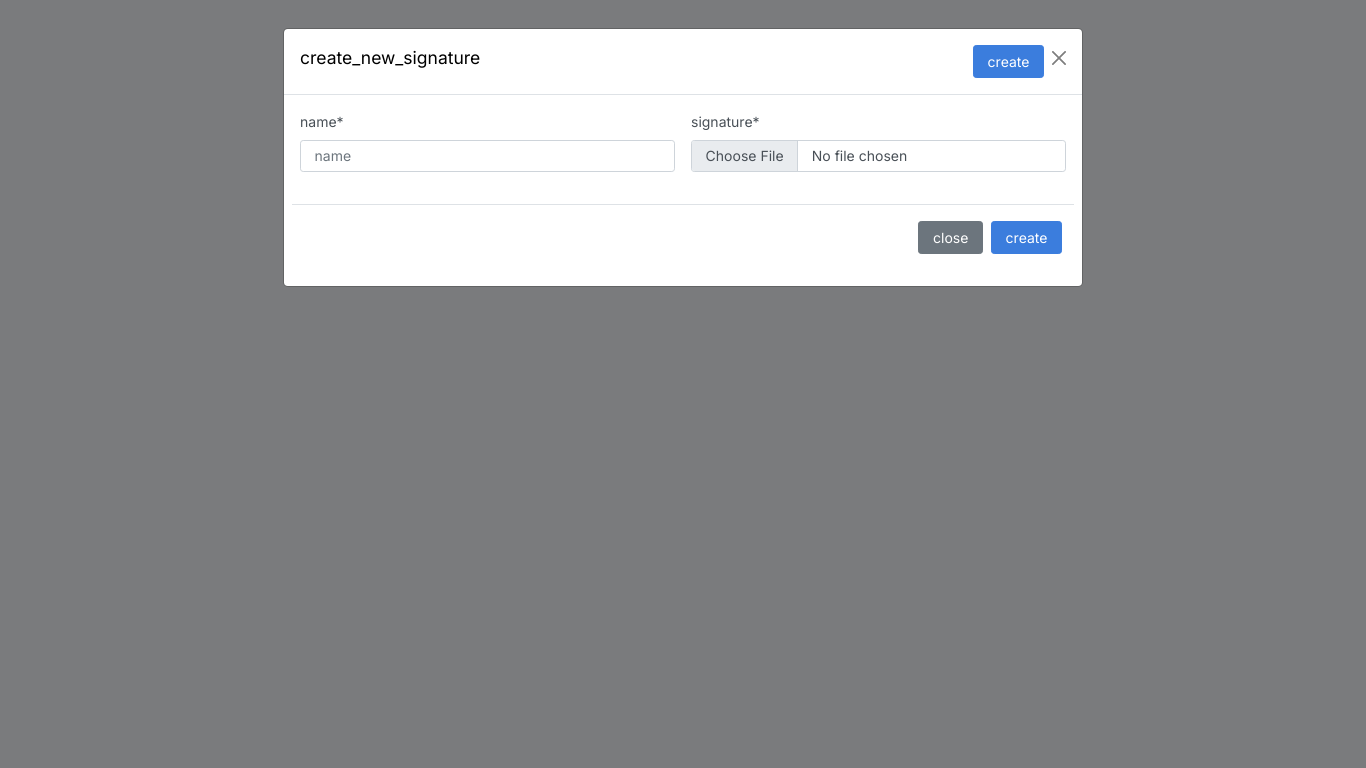
Scenario: SignatureCreate submit › shows the API errors on status:false without crashing
The image size is (1366, 768).
In the field with id "name": (488, 156) top-left (300, 140), bottom-right (675, 172), type "Sig A"
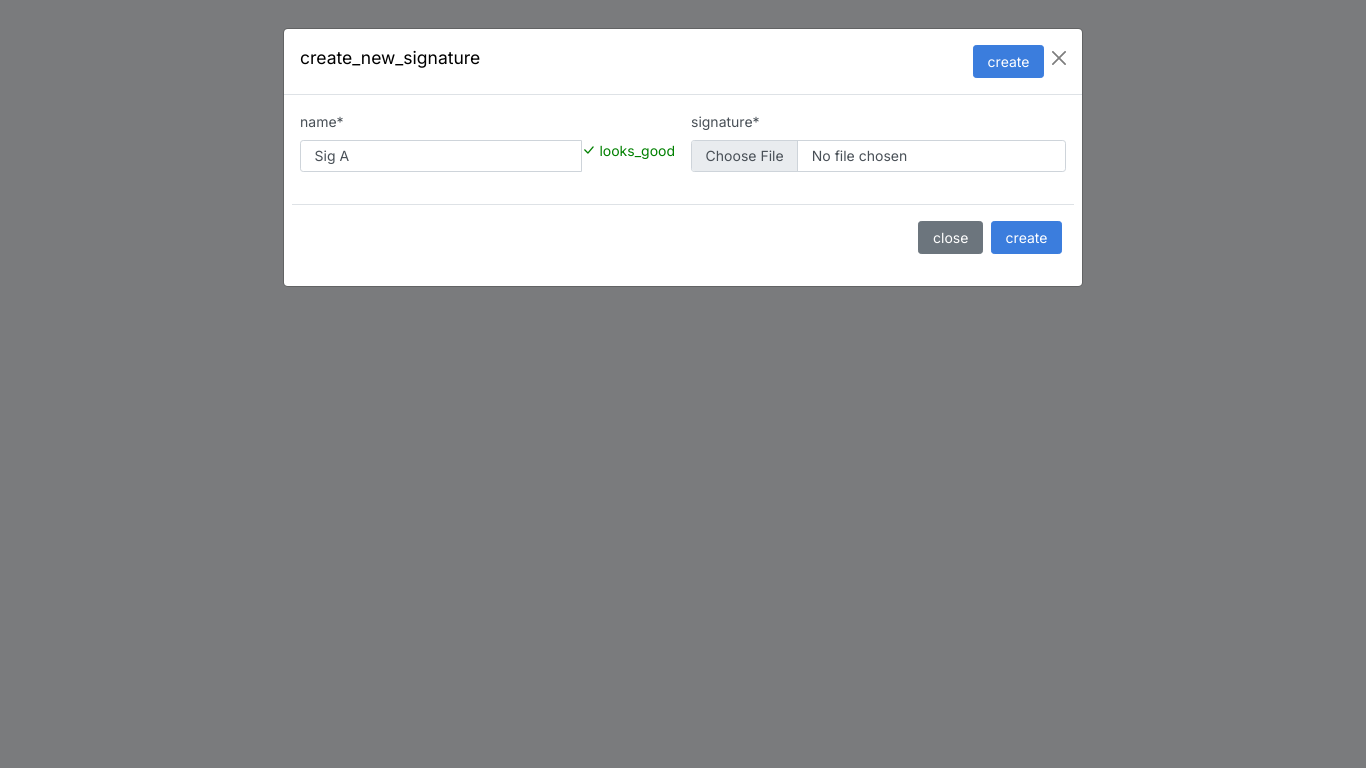
Click the button "create" in the row of "create_new_signature": (1008, 61) top-left (973, 45), bottom-right (1044, 78)
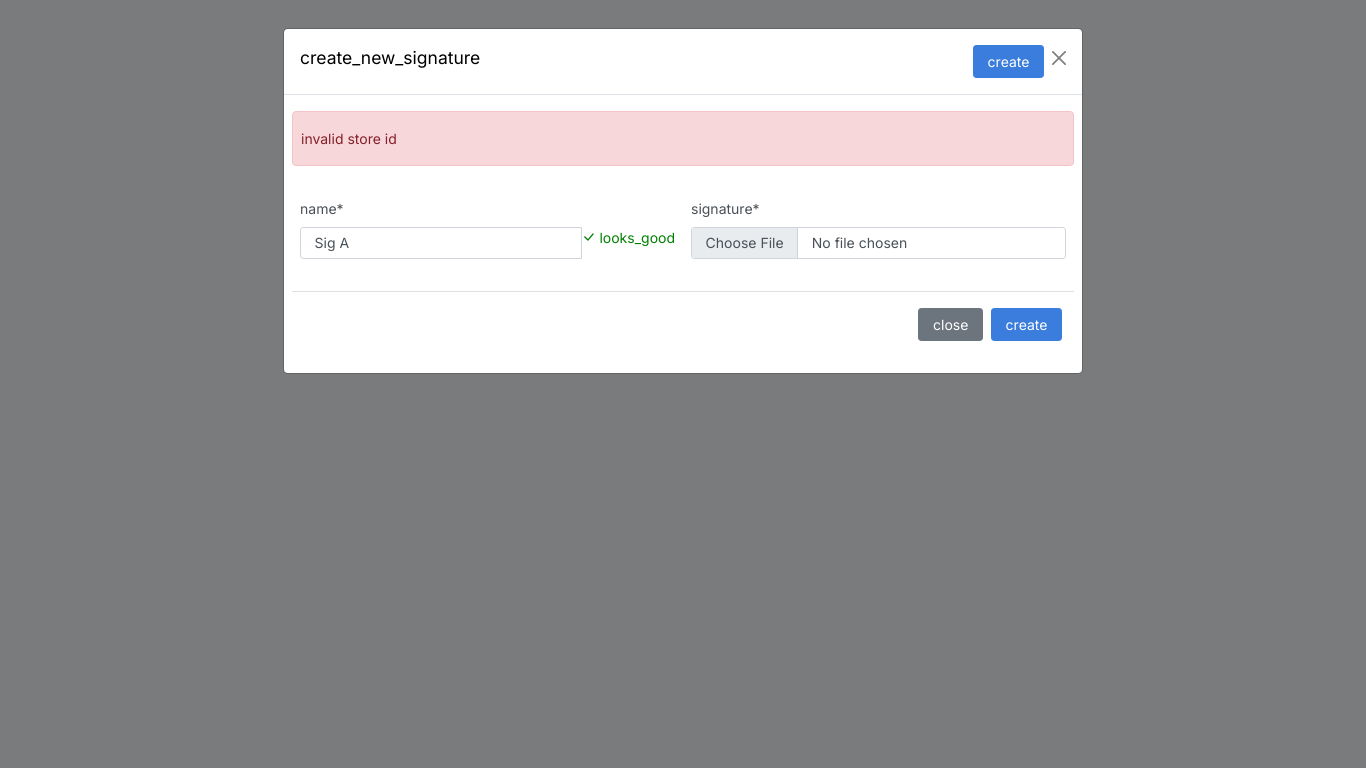
Check: the text "invalid store id" is shown, box top-left (301, 130), bottom-right (397, 147)
